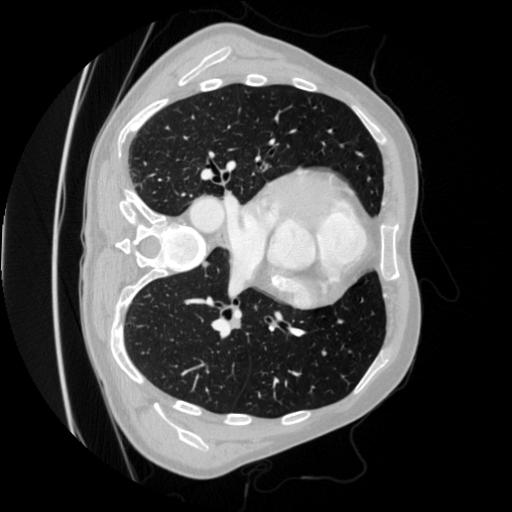nodule: (201, 260, 212, 271)
